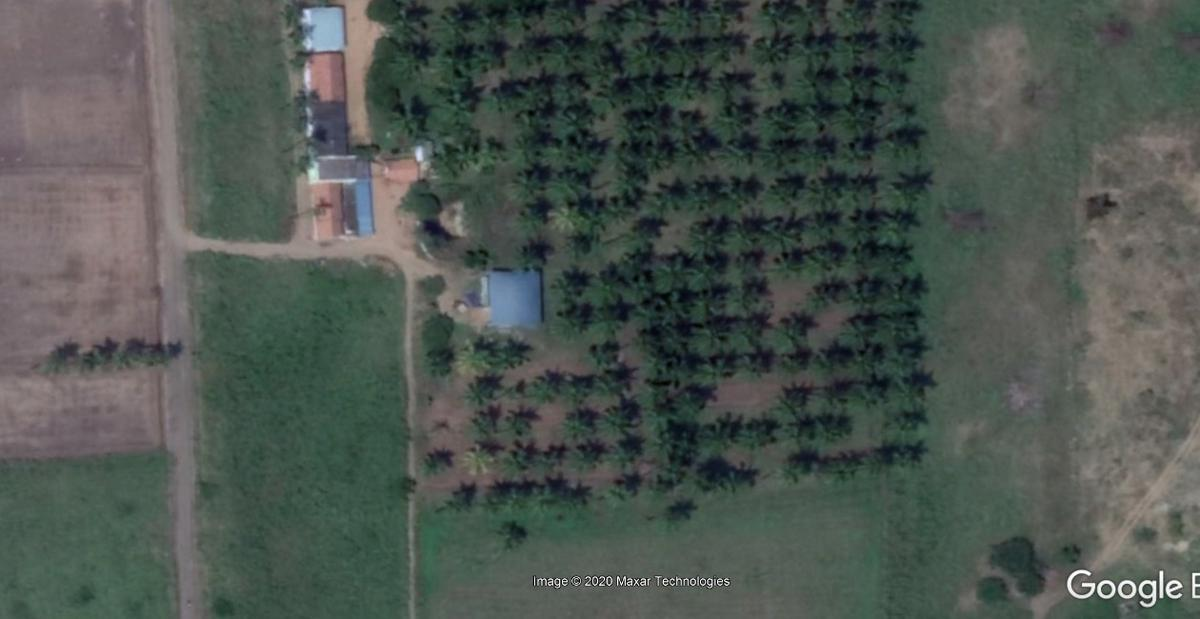coconut: (624, 141, 674, 190), (887, 262, 933, 311), (426, 0, 466, 51), (433, 45, 480, 85), (680, 219, 727, 259), (734, 276, 784, 313), (557, 476, 597, 521), (774, 309, 822, 346), (509, 74, 553, 114), (502, 1, 542, 45), (666, 388, 711, 427), (620, 36, 661, 78), (588, 264, 630, 303), (802, 172, 846, 209), (441, 484, 485, 521), (620, 214, 660, 254), (564, 137, 605, 176), (750, 33, 792, 71), (390, 104, 429, 144), (878, 209, 918, 248), (653, 421, 692, 461), (791, 27, 829, 68), (543, 0, 593, 31), (552, 300, 596, 335), (621, 108, 665, 143), (843, 167, 877, 212), (384, 7, 423, 46), (792, 67, 832, 105), (796, 99, 836, 137), (42, 341, 80, 381), (497, 477, 538, 514), (734, 418, 777, 453), (655, 0, 700, 33), (880, 0, 920, 37), (709, 104, 750, 140), (765, 172, 801, 213), (838, 96, 879, 132), (540, 33, 582, 68), (753, 0, 800, 31), (805, 240, 843, 278), (681, 177, 722, 212), (604, 470, 639, 511), (494, 522, 533, 558), (75, 340, 115, 375), (698, 355, 739, 389), (596, 298, 629, 340), (890, 166, 922, 209), (757, 105, 793, 143), (442, 87, 480, 123), (692, 317, 730, 353), (723, 462, 761, 498), (856, 363, 890, 403), (457, 375, 499, 407), (593, 362, 630, 398), (651, 250, 688, 286), (383, 50, 420, 86), (660, 299, 698, 334), (820, 452, 861, 484), (720, 176, 759, 209), (760, 137, 800, 169), (884, 311, 924, 343), (551, 105, 592, 136), (711, 66, 746, 102), (604, 395, 639, 431), (691, 281, 727, 316), (784, 409, 811, 455), (815, 409, 855, 440), (856, 273, 891, 308), (886, 123, 920, 159), (470, 40, 506, 74), (666, 66, 702, 100), (550, 76, 597, 102), (760, 219, 800, 249), (647, 465, 682, 499), (565, 185, 594, 226), (701, 0, 740, 30), (464, 444, 497, 479), (668, 104, 700, 140), (701, 416, 733, 452), (887, 37, 924, 68), (812, 276, 842, 314), (843, 318, 881, 348), (768, 249, 802, 282), (774, 459, 812, 488), (510, 403, 542, 437), (843, 59, 878, 90), (499, 440, 535, 470), (510, 135, 551, 161), (566, 226, 599, 258), (727, 219, 760, 251), (836, 0, 870, 31), (673, 137, 707, 167), (515, 169, 555, 194), (515, 240, 552, 267), (553, 264, 584, 296), (664, 496, 696, 527), (420, 346, 453, 376), (804, 210, 834, 243), (492, 337, 526, 366), (620, 0, 655, 28), (424, 449, 455, 480), (902, 436, 934, 466), (900, 366, 929, 399), (533, 368, 561, 402), (824, 378, 855, 408), (845, 214, 874, 246), (719, 140, 751, 167), (779, 381, 810, 408), (609, 436, 638, 463), (574, 448, 605, 473), (515, 202, 547, 226), (656, 177, 680, 209), (566, 409, 594, 436), (462, 244, 489, 272), (745, 349, 770, 376), (888, 406, 920, 426), (449, 139, 473, 164), (566, 375, 592, 398), (470, 408, 492, 435), (605, 190, 624, 219), (467, 339, 489, 364)
